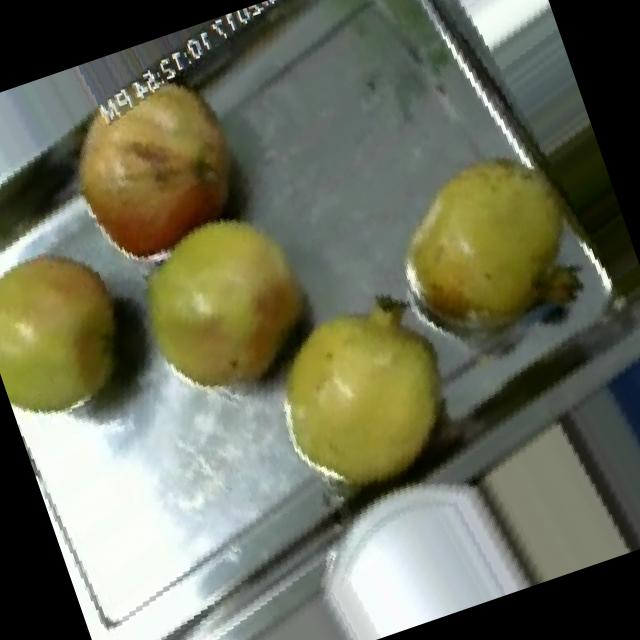fruit: (224, 250, 498, 540), (350, 109, 622, 378), (94, 173, 358, 435), (31, 42, 280, 300), (0, 213, 168, 449)
